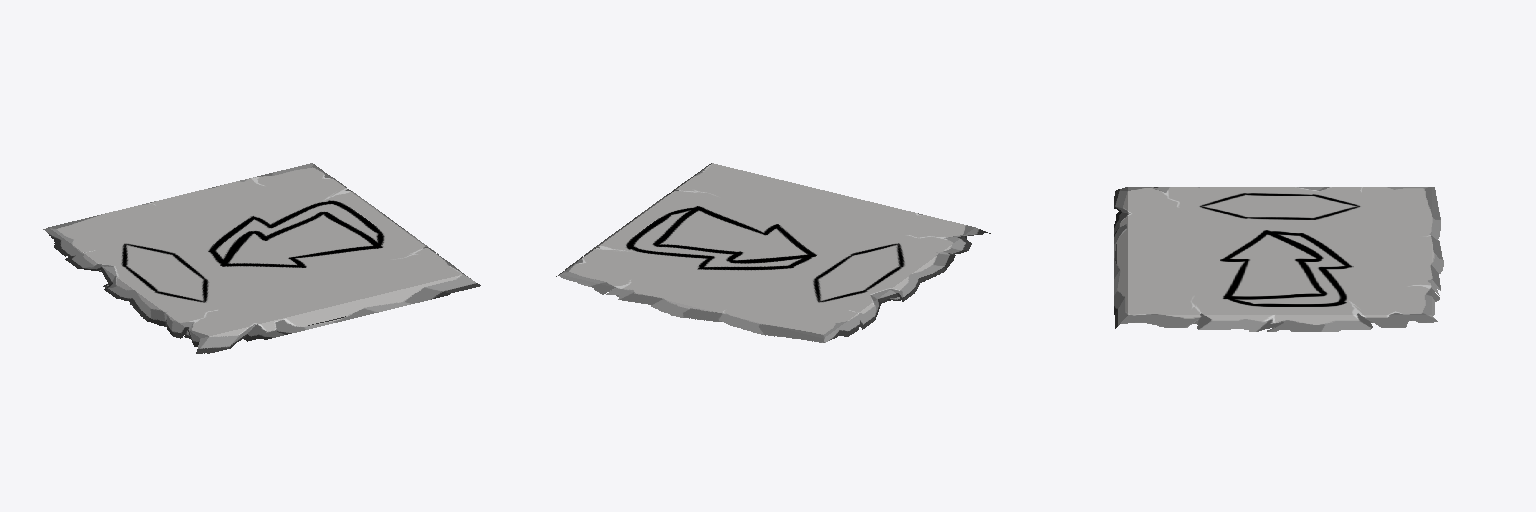
3 views of the same model, side by side, from view 1: azimuth 30°, elevation 25°; view 2: azimuth 150°, elevation 25°; view 3: azimuth 270°, elevation 25° (orthographic).
Parts seen in each view (by area): view 1: Cube_Cube.001; view 2: Cube_Cube.001; view 3: Cube_Cube.001.
Boxes of the visible parts, x1=… form: Cube_Cube.001: x1=43, y1=163, x2=480, y2=353; Cube_Cube.001: x1=556, y1=163, x2=990, y2=342; Cube_Cube.001: x1=1114, y1=187, x2=1443, y2=331.
Size of the model in its own units: 20 by 0.6826 by 20.
1 materials, 1 textured.